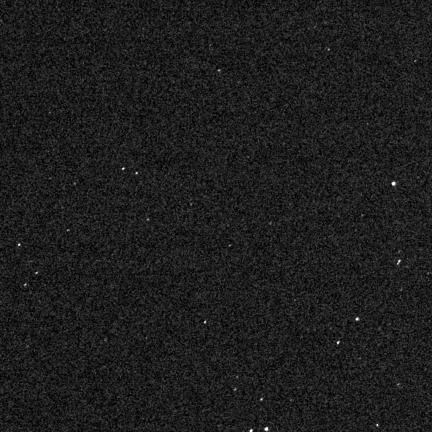blob: (18, 243, 22, 247), (135, 172, 139, 176), (392, 182, 396, 186), (356, 317, 359, 321), (337, 341, 340, 345), (122, 168, 125, 171)
